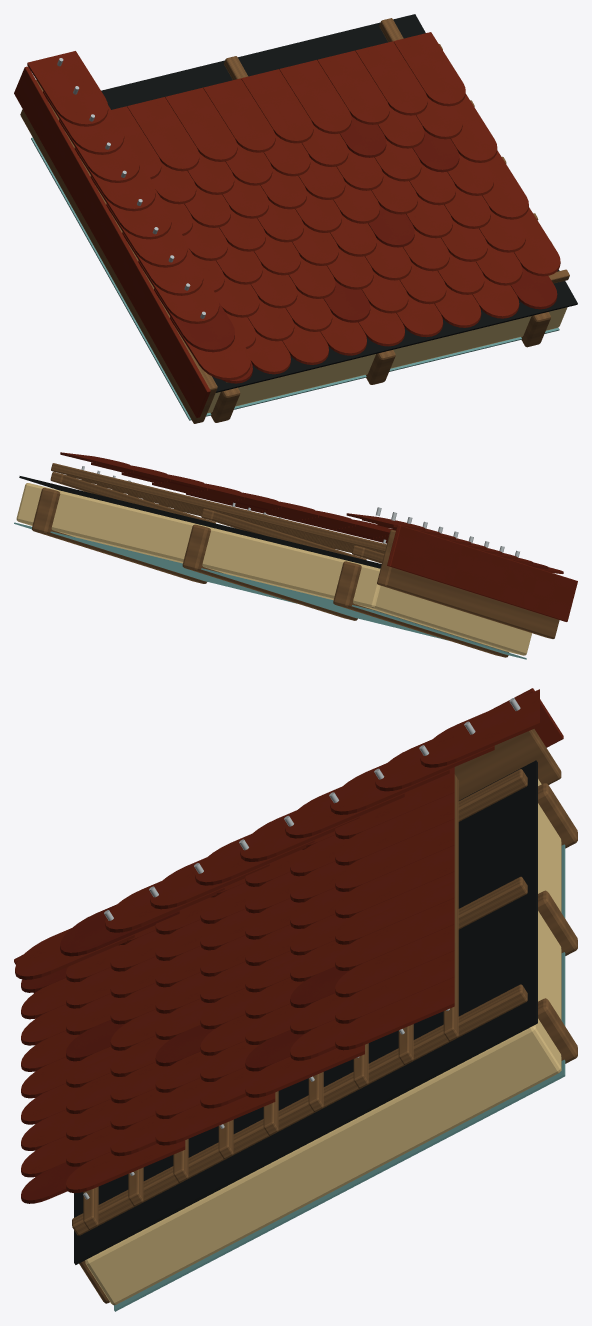
File: modell.glb
3 views of the same model, one above another, from view 1: azimuth 30°, elevation 25°; view 2: azimuth 150°, elevation 25°; view 3: azimuth 270°, elevation 25° (orthographic). The views are drawn at different scales.
Visible parts, largest first — view 1: s04-deckziegel_deckung.001, s04-randziegel_deckung, s04-abschluss_deckung, s04-zusatzebene_zusatzebene, s04-deckziegel_deckung, s04-daemmung_daemmung, s04-abschluss_tragwerk, s04-sparren_tragwerk, s04-luftdichtheit_luftdichtheit, s04-randziegel_deckung.001, s04-lattung_lattung; view 2: s04-daemmung_daemmung, s04-abschluss_deckung, s04-lattung_lattung, s04-sparren_tragwerk, s04-deckziegel_deckung.001, s04-abschluss_tragwerk, s04-luftdichtheit_luftdichtheit, s04-zusatzebene_zusatzebene, s04-randziegel_deckung, s04-deckziegel_deckung, s04-befestigung_deckung; view 3: s04-deckziegel_deckung.001, s04-zusatzebene_zusatzebene, s04-daemmung_daemmung, s04-randziegel_deckung, s04-lattung_lattung, s04-deckziegel_deckung, s04-luftdichtheit_luftdichtheit, s04-sparren_tragwerk, s04-abschluss_tragwerk, s04-randziegel_deckung.001, s04-abschluss_deckung.
Part boxes in pixels (x1=…): s04-deckziegel_deckung.001: x1=111, y1=32, x2=560, y2=374; s04-randziegel_deckung: x1=27, y1=51, x2=250, y2=380; s04-abschluss_deckung: x1=14, y1=66, x2=210, y2=417; s04-zusatzebene_zusatzebene: x1=101, y1=14, x2=577, y2=392; s04-deckziegel_deckung: x1=222, y1=115, x2=557, y2=383; s04-daemmung_daemmung: x1=207, y1=307, x2=567, y2=413; s04-abschluss_tragwerk: x1=20, y1=80, x2=217, y2=423; s04-sparren_tragwerk: x1=210, y1=312, x2=550, y2=422; s04-luftdichtheit_luftdichtheit: x1=31, y1=137, x2=559, y2=420; s04-randziegel_deckung.001: x1=154, y1=288, x2=234, y2=352; s04-lattung_lattung: x1=224, y1=18, x2=569, y2=382; s04-daemmung_daemmung: x1=16, y1=483, x2=531, y2=655; s04-abschluss_deckung: x1=387, y1=524, x2=577, y2=621; s04-lattung_lattung: x1=50, y1=463, x2=386, y2=563; s04-sparren_tragwerk: x1=32, y1=488, x2=508, y2=657; s04-deckziegel_deckung.001: x1=60, y1=452, x2=392, y2=543; s04-abschluss_tragwerk: x1=377, y1=530, x2=559, y2=638; s04-luftdichtheit_luftdichtheit: x1=14, y1=522, x2=526, y2=659; s04-zusatzebene_zusatzebene: x1=19, y1=476, x2=381, y2=568; s04-randziegel_deckung: x1=346, y1=513, x2=563, y2=573; s04-deckziegel_deckung: x1=127, y1=472, x2=373, y2=538; s04-befestigung_deckung: x1=376, y1=507, x2=519, y2=557; s04-deckziegel_deckung.001: x1=21, y1=767, x2=454, y2=1193; s04-zusatzebene_zusatzebene: x1=74, y1=760, x2=537, y2=1264; s04-daemmung_daemmung: x1=85, y1=779, x2=561, y2=1305; s04-randziegel_deckung: x1=15, y1=689, x2=539, y2=979; s04-lattung_lattung: x1=72, y1=769, x2=527, y2=1235; s04-deckziegel_deckung: x1=21, y1=967, x2=348, y2=1203; s04-luftdichtheit_luftdichtheit: x1=114, y1=844, x2=565, y2=1311; s04-sparren_tragwerk: x1=79, y1=783, x2=577, y2=1303; s04-abschluss_tragwerk: x1=454, y1=729, x2=561, y2=800; s04-randziegel_deckung.001: x1=60, y1=904, x2=179, y2=956; s04-abschluss_deckung: x1=14, y1=688, x2=563, y2=993.
Bounding box in the file's own units: 1.85 × 1.19 × 1.63.
Materials: 7 (3 with a texture image).
